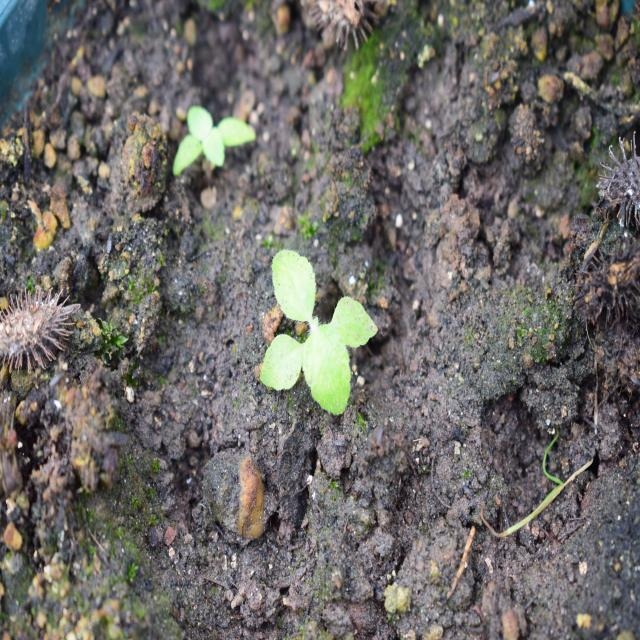billygoat_weed: (256, 243, 377, 438)
